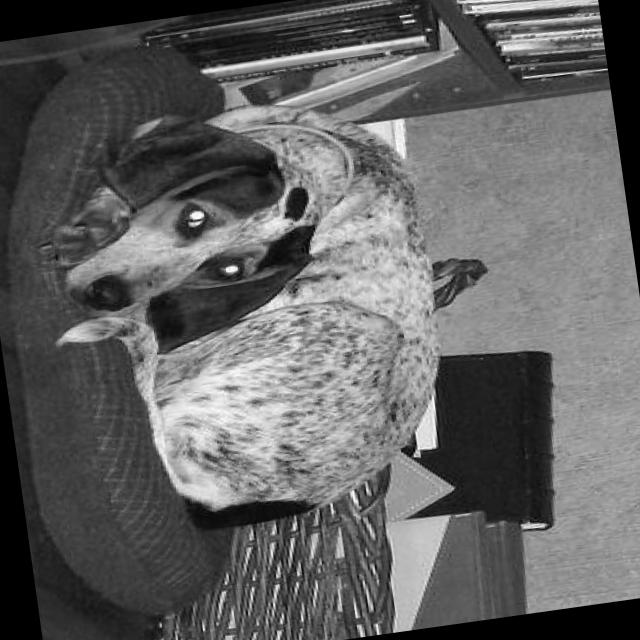laying down: (19, 71, 477, 556)
